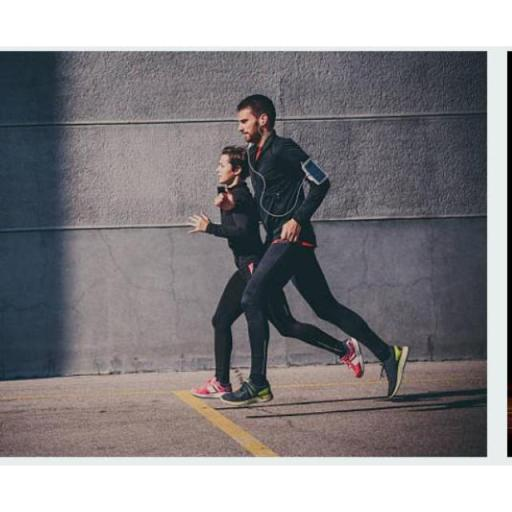Running: (217, 90, 410, 406)
